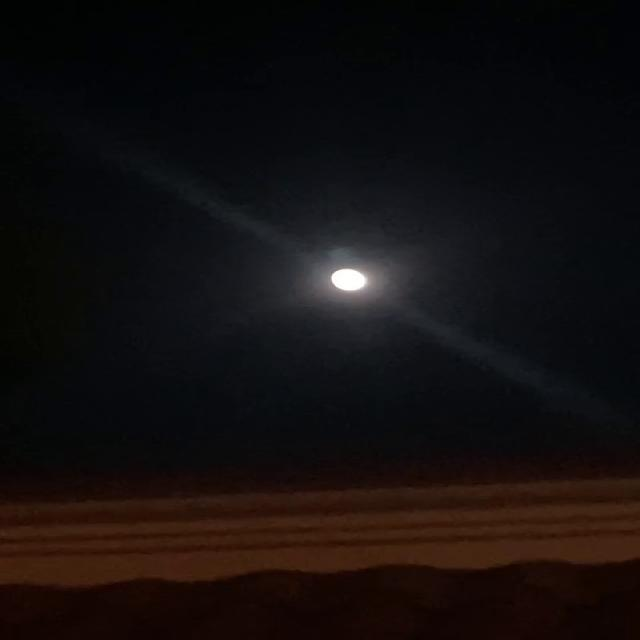moon: (324, 265, 368, 292)
